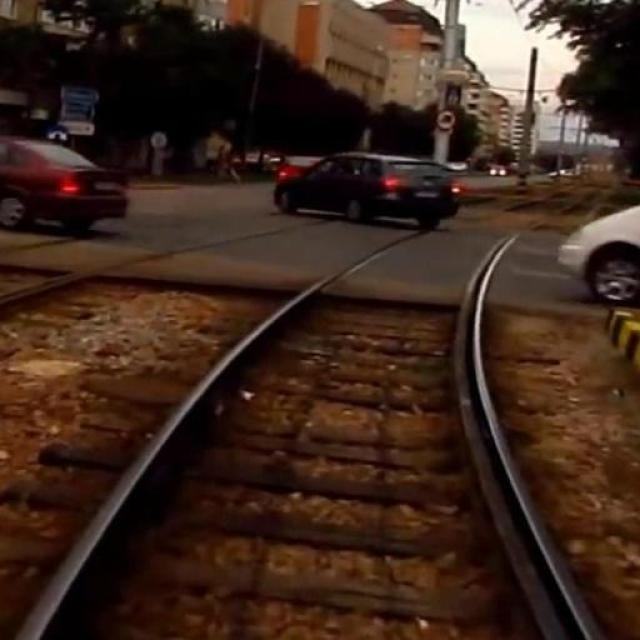vehicle: (269, 144, 462, 235), (0, 129, 143, 236), (564, 193, 640, 297)
